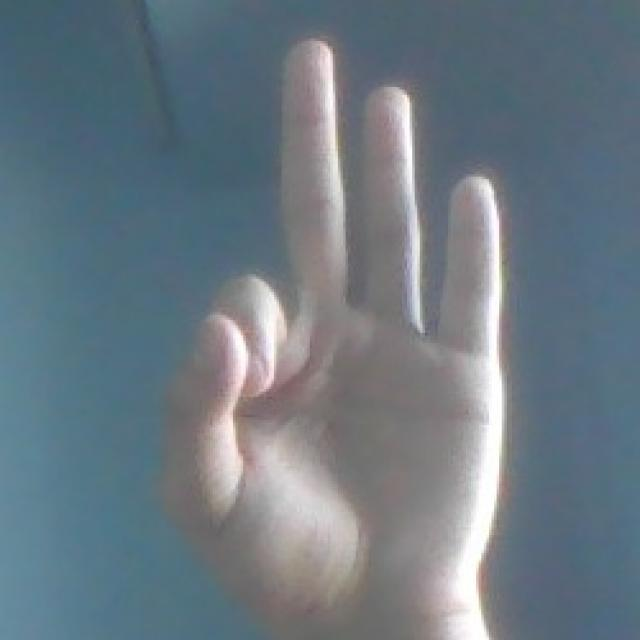Numeric-9: (132, 27, 498, 616)
